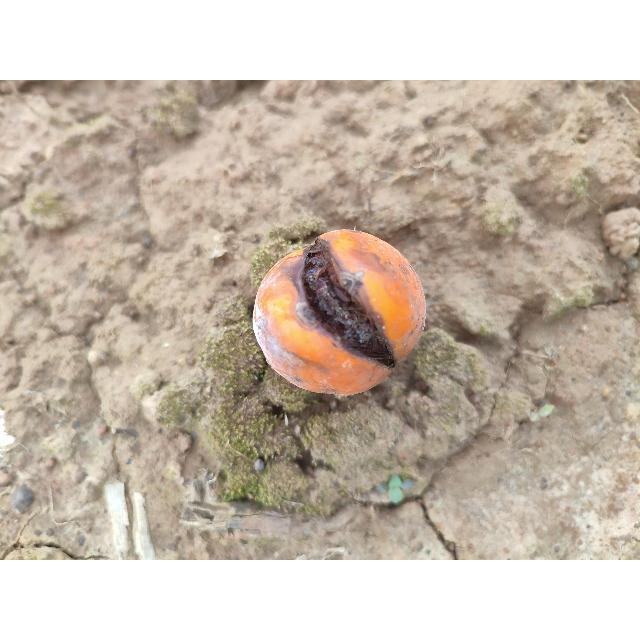damaged: (251, 230, 428, 398)
